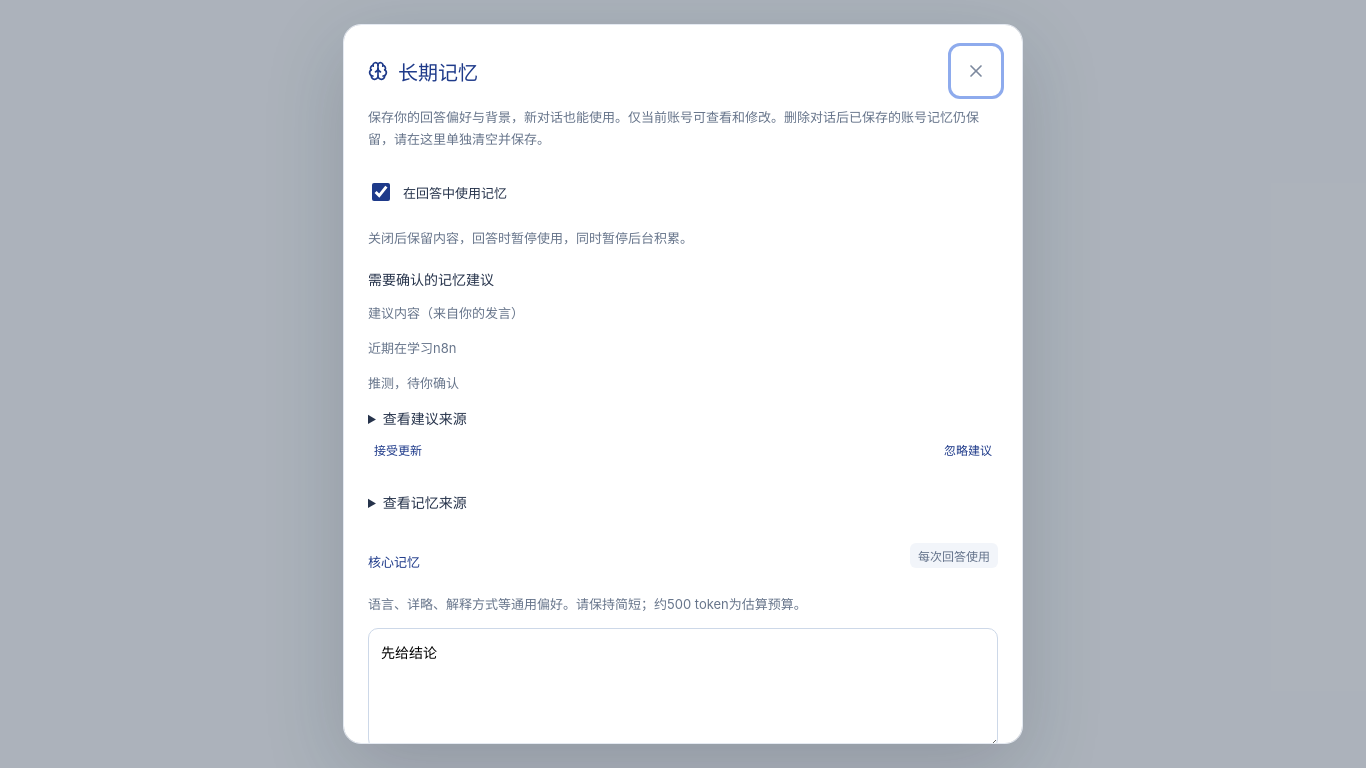
Test case: shows source quotes and inferred suggestion without claiming saved
The width and height of the screenshot is (1366, 768).
Expected: the text "近期在学习n8n" is shown, [368, 340, 456, 356]
Expected: the text "推测，待你确认" is shown, [368, 376, 459, 392]
Click the heading "查看记忆来源". click: x=425, y=502
box: [383, 494, 467, 511]
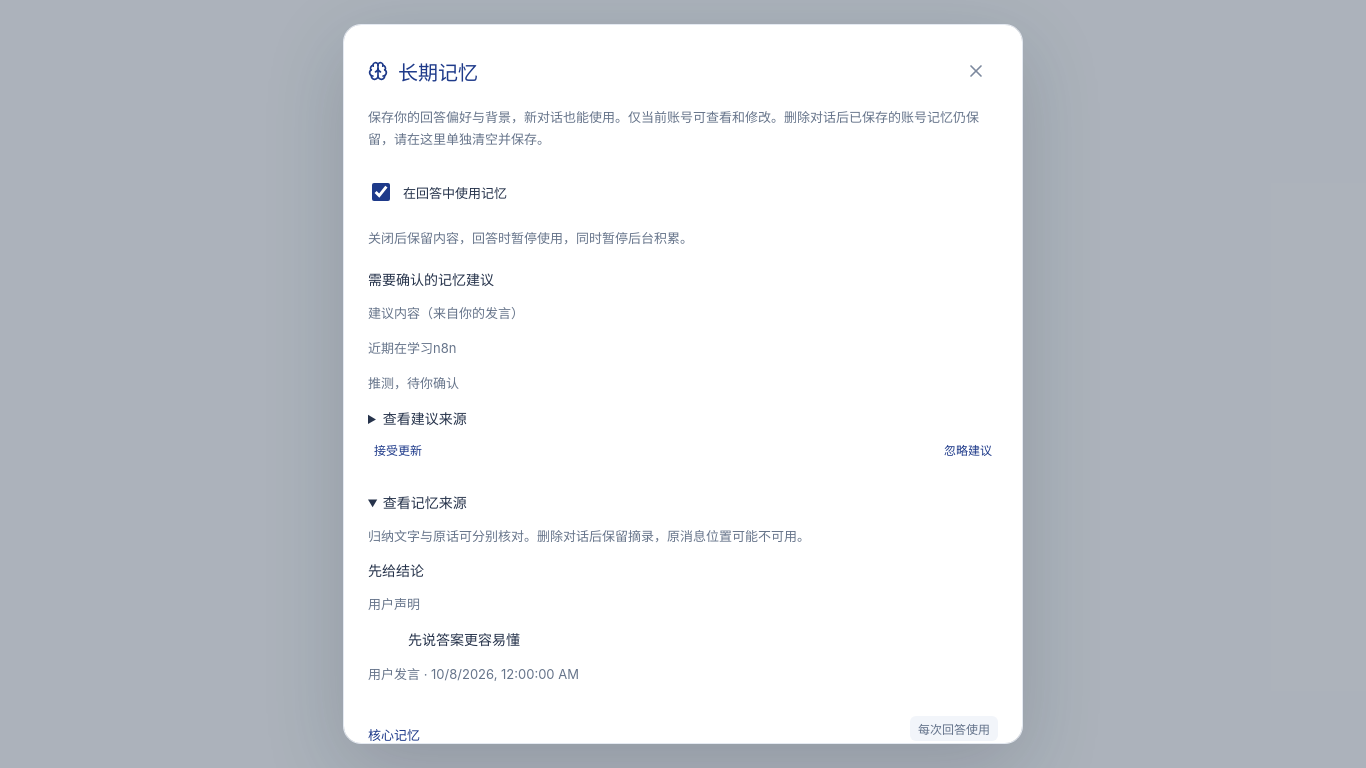
Expected: the text "先说答案更容易懂" is shown, [408, 631, 520, 648]
